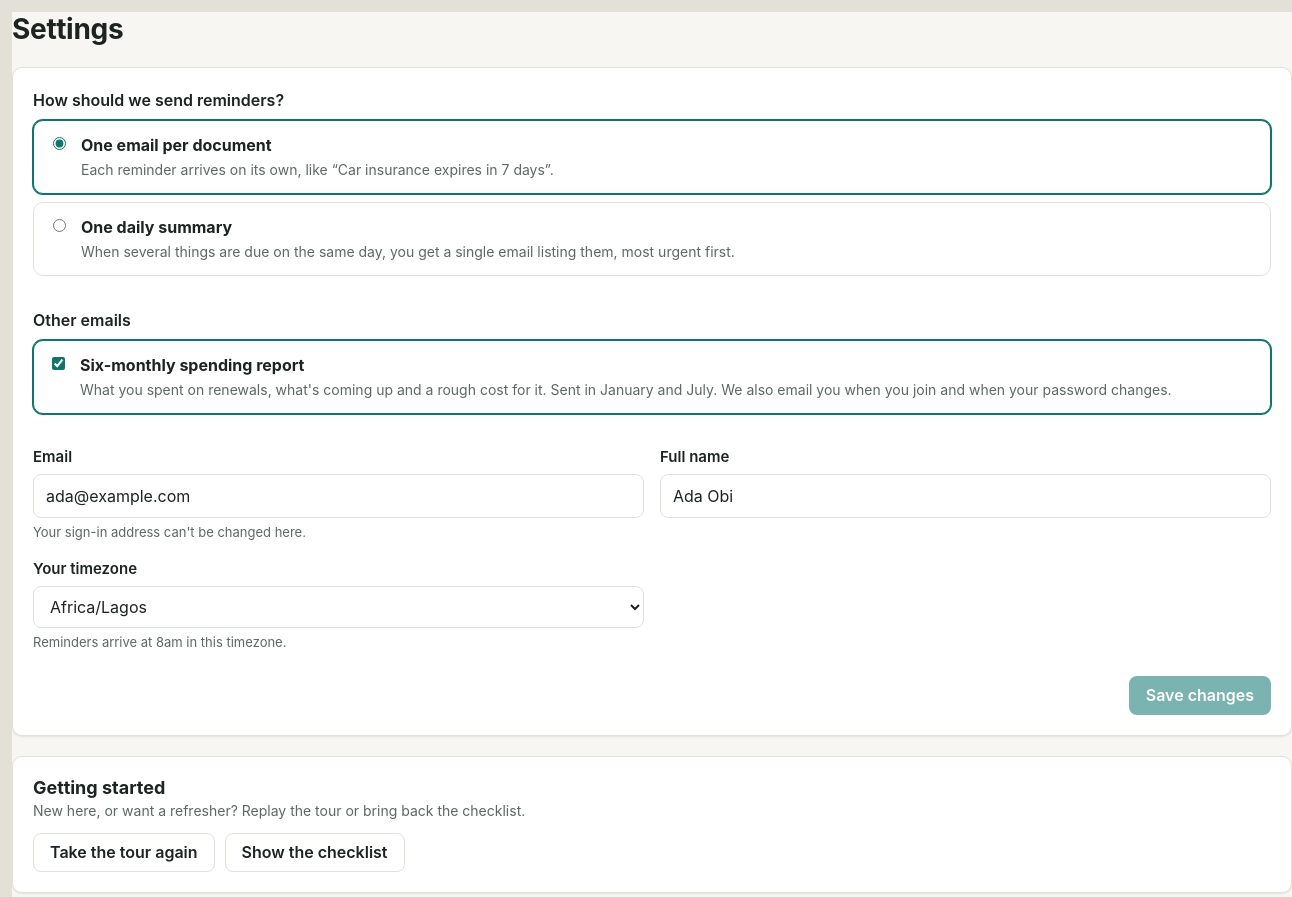
Test case: SettingsPage › saves only what changed and confirms
This screenshot has width=1292, height=897.
Expected: the heading "Settings" is shown, [12, 12, 123, 47]
What coordinates should you click on to do the following:
click the radio button labelled "One daily summary"
I would click on:
 (60, 226)
Its box is [53, 219, 66, 232].
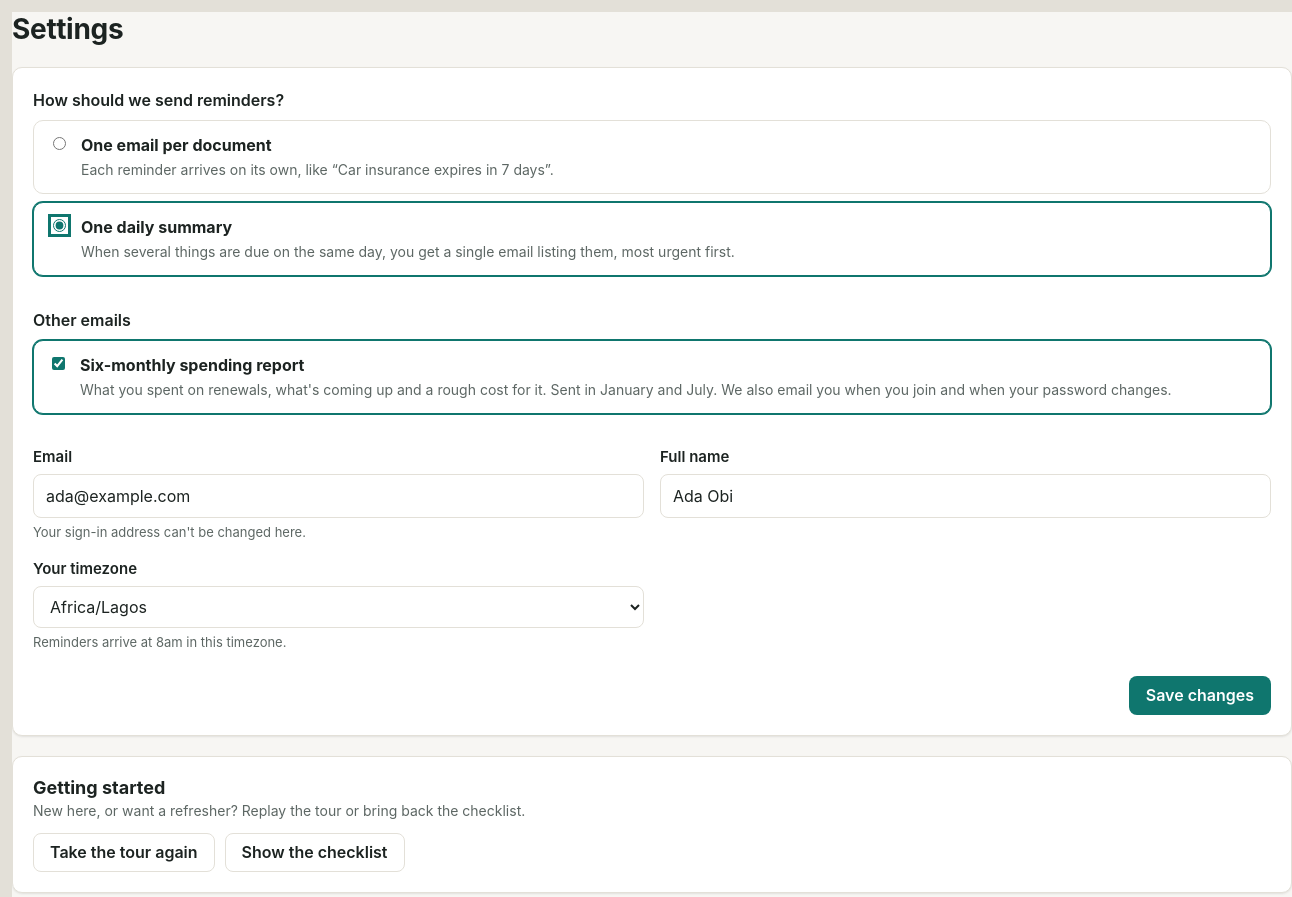
What coordinates should you click on to do the following:
click the button "Save changes"
I would click on:
 (1200, 696)
Its box is [1129, 676, 1271, 715].
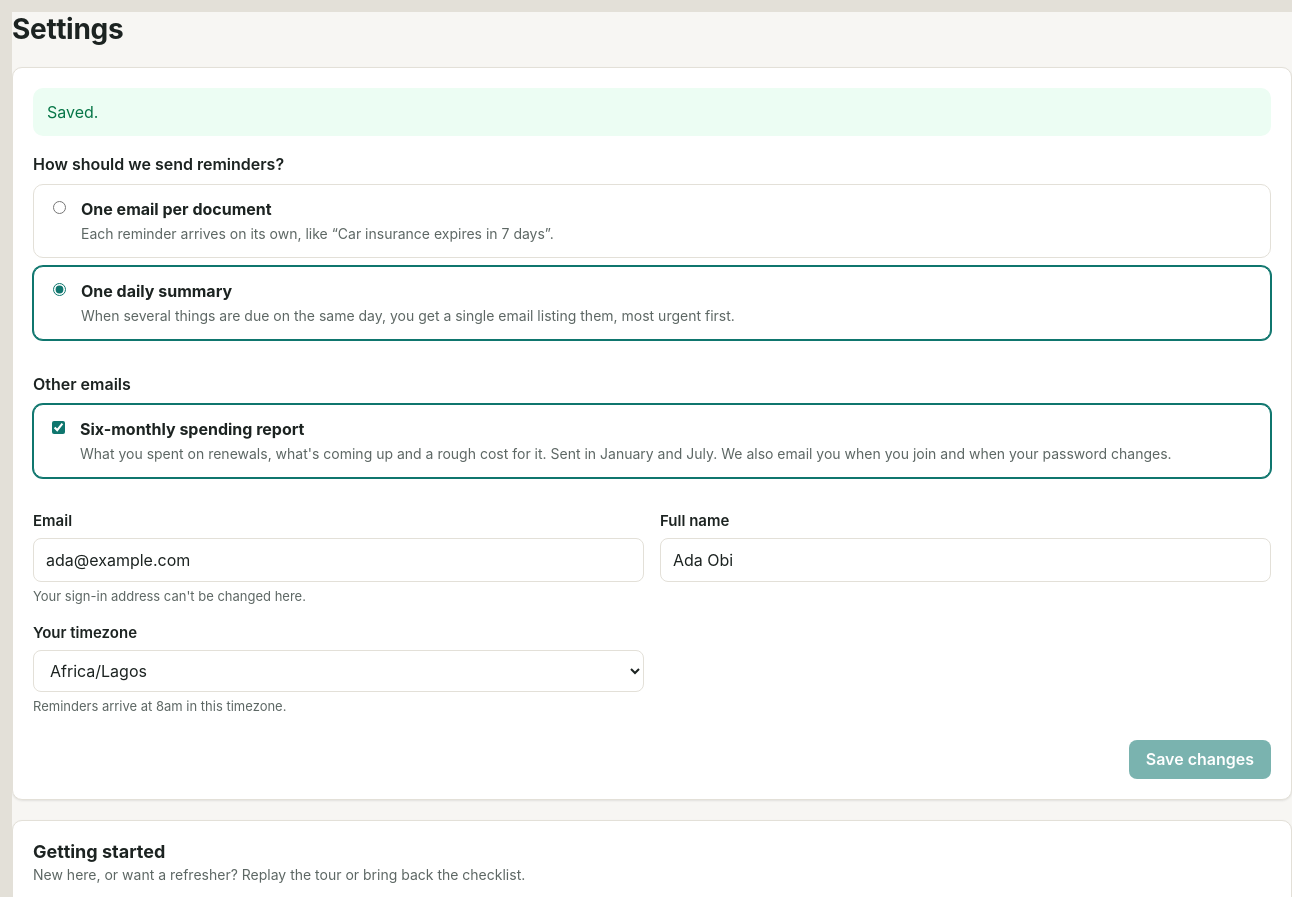
Expected: the text "Saved." is shown, [33, 88, 1271, 136]
Expected: the button "Save changes" is disabled, [1129, 740, 1271, 779]
